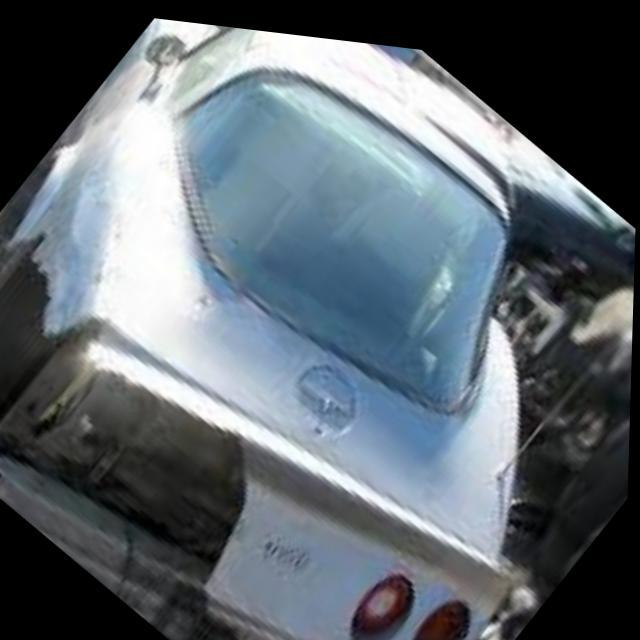no part: (0, 210, 275, 640)
